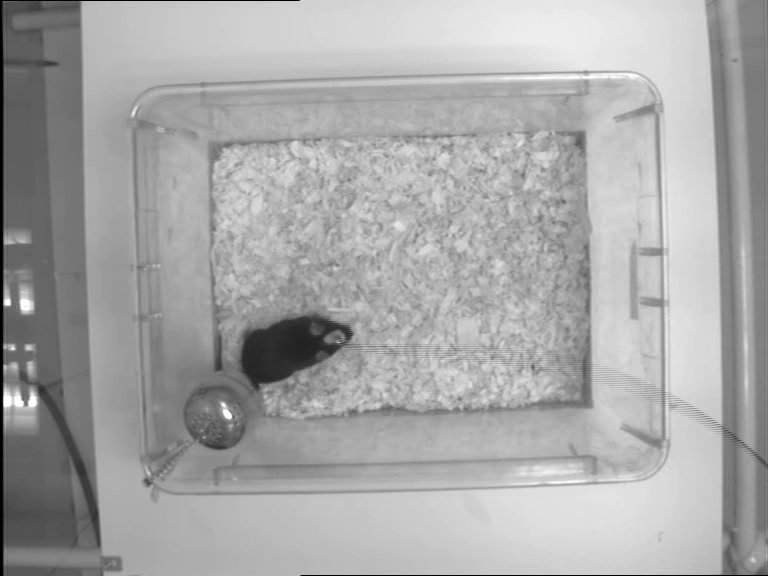mice: (240, 313, 354, 383)
